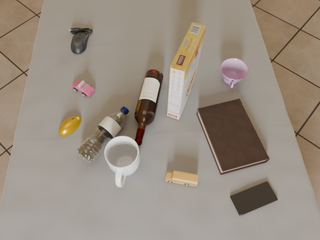book: (197, 99, 270, 175)
bottle: (76, 107, 129, 163), (135, 70, 163, 145)
box: (167, 22, 206, 119)
cup: (104, 136, 140, 187), (221, 58, 248, 88)
mouse: (70, 28, 93, 54), (59, 116, 81, 136)
phone: (230, 181, 278, 216)
toy_car: (166, 171, 198, 186), (72, 80, 95, 97)
